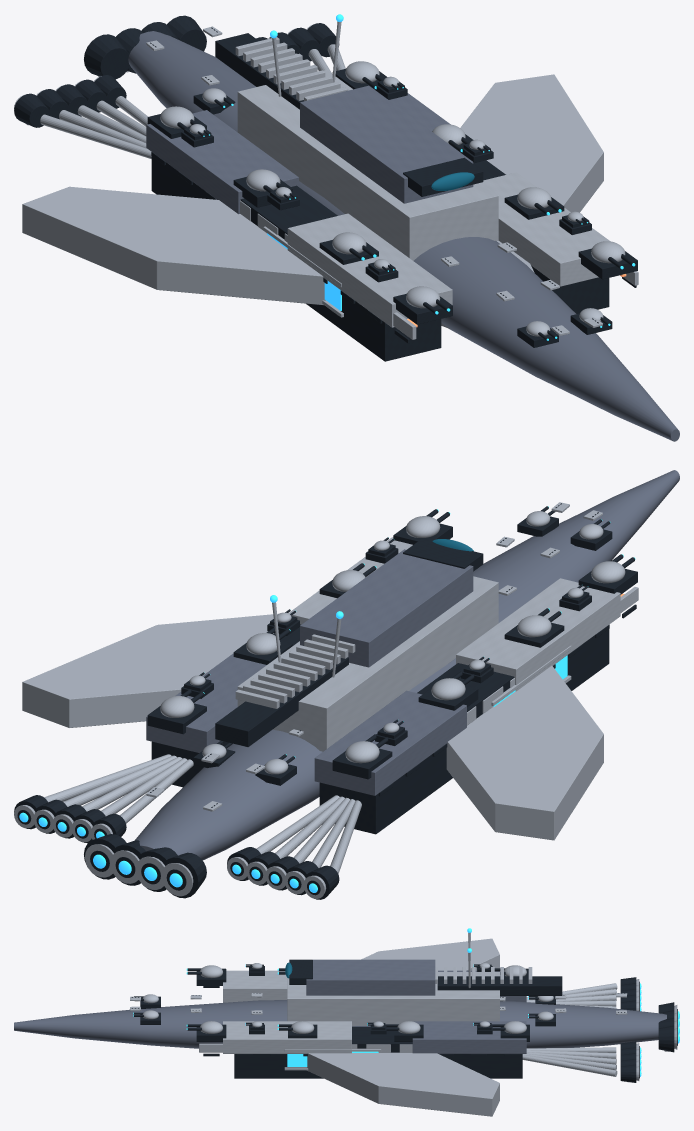
Rendered from cruiser.glb.
3 views of the same model, one above another, from view 1: azimuth 30°, elevation 25°; view 2: azimuth 150°, elevation 25°; view 3: azimuth 270°, elevation 25° (orthographic). The views are drawn at different scales.
Parts seen in each view (by area): view 1: cruiser; view 2: cruiser; view 3: cruiser.
Part boxes in pixels (bbox=[...]): cruiser: bbox=[14, 14, 679, 441]; cruiser: bbox=[14, 470, 679, 899]; cruiser: bbox=[14, 928, 679, 1116].
Size of the model in its own units: 24.99 by 8.06 by 43.85.
6 materials, 3 textured.
